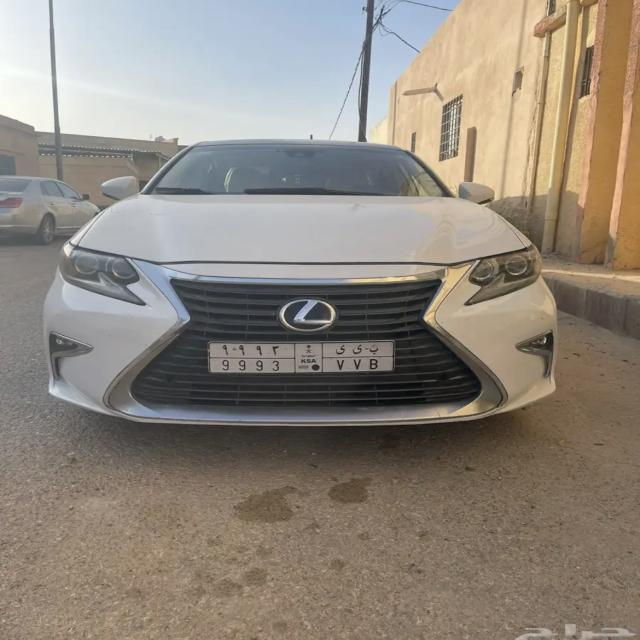license_plate: (210, 341, 396, 372)
